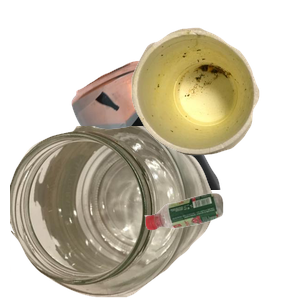glass: (10, 126, 216, 300)
metal: (69, 58, 300, 238)
plastic: (142, 191, 300, 300)
trash: (129, 25, 300, 173)
